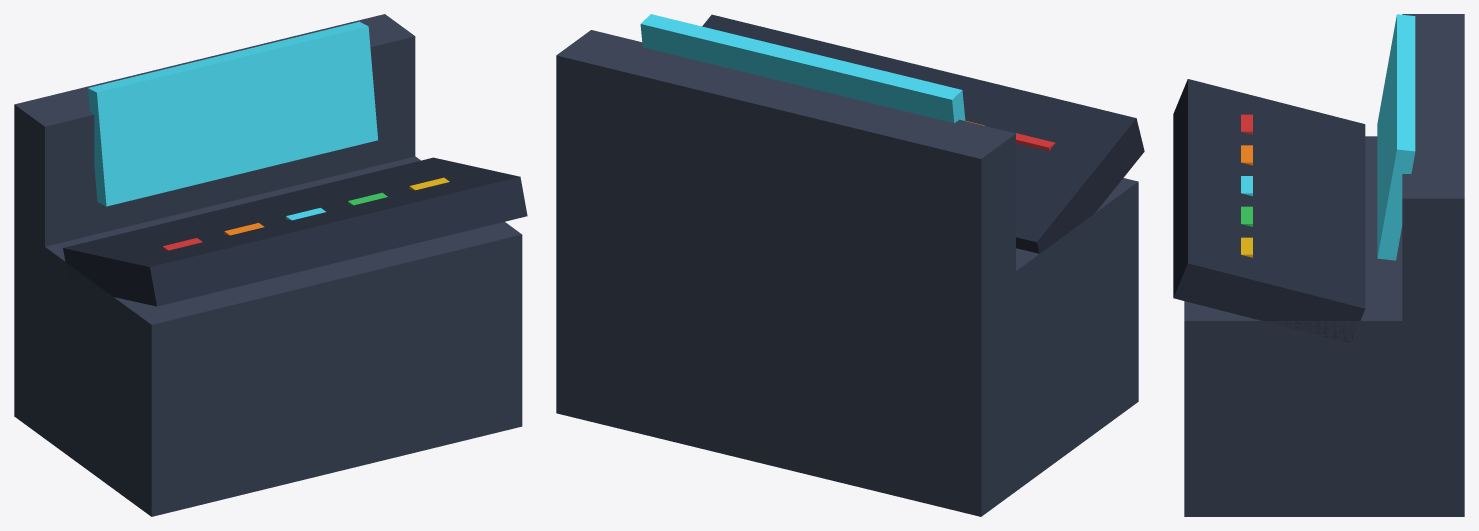
File: env_r9_control_console.glb
3 renders of one model, left to right at view 1: azimuth 30°, elevation 25°; view 2: azimuth 150°, elevation 25°; view 3: azimuth 270°, elevation 25°, orthographic. The views are drawn at different scales.
Visible parts, largest first — view 1: env_r9_control_console; view 2: env_r9_control_console; view 3: env_r9_control_console.
Boxes of the visible parts, left/top/right/bottom form: env_r9_control_console: left=14, top=14, right=527, bottom=516; env_r9_control_console: left=556, top=14, right=1144, bottom=516; env_r9_control_console: left=1173, top=14, right=1464, bottom=516.
Bounding box in the file's own units: 1.5 × 1.3 × 1.
Materials: 1 (1 with a texture image).
